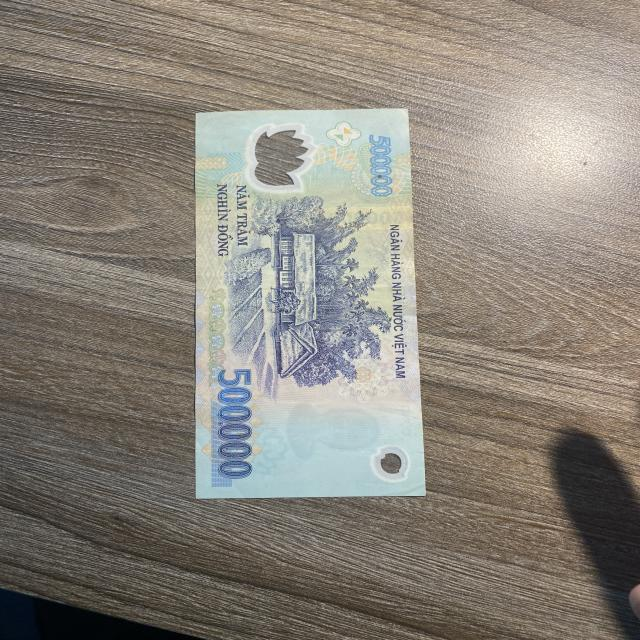500 000 VND: (193, 107, 428, 501)
